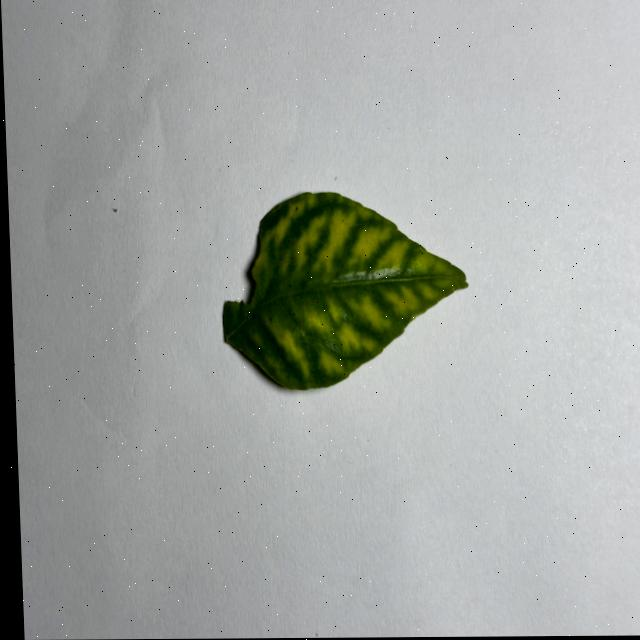greening: (222, 193, 467, 390)
